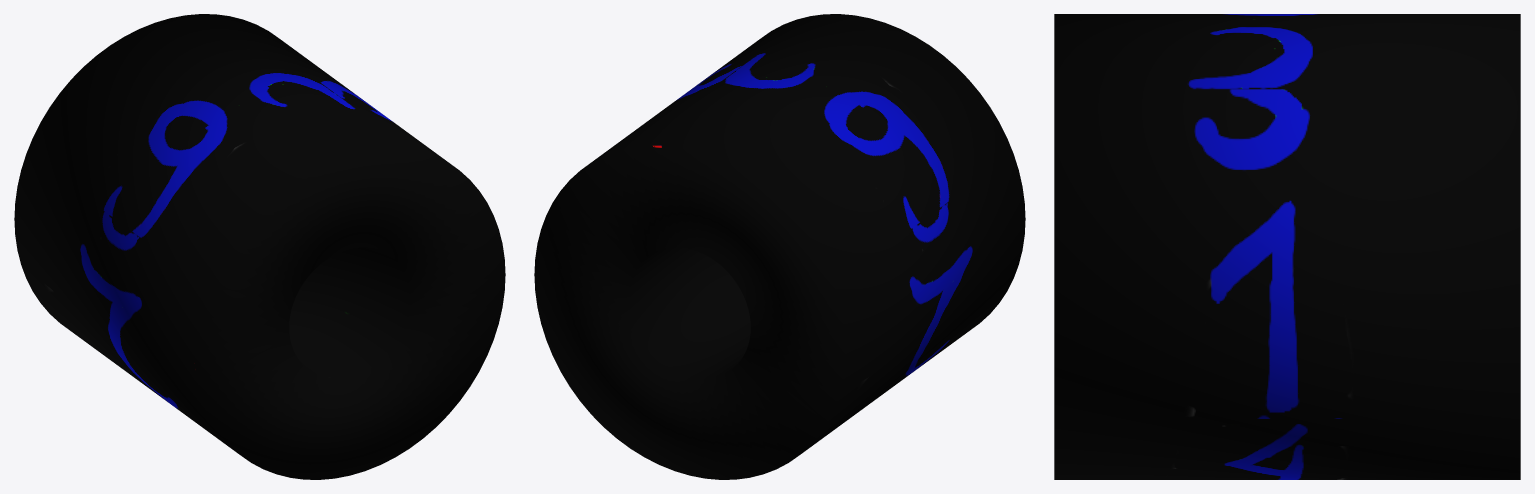
File: papier_niebieski.glb
3 renders of one model, left to right at view 1: azimuth 30°, elevation 25°; view 2: azimuth 150°, elevation 25°; view 3: azimuth 270°, elevation 25°, orthographic. The views are drawn at different scales.
Parts seen in each view (by area): view 1: Cylinder; view 2: Cylinder; view 3: Cylinder.
Boxes of the visible parts, x1,y1,x2,y2 form: Cylinder: (14,14,505,479); Cylinder: (534,14,1025,479); Cylinder: (1054,14,1520,479).
Size of the model in its own units: 0.5522 by 0.5522 by 0.5522.
1 material, 1 textured.
